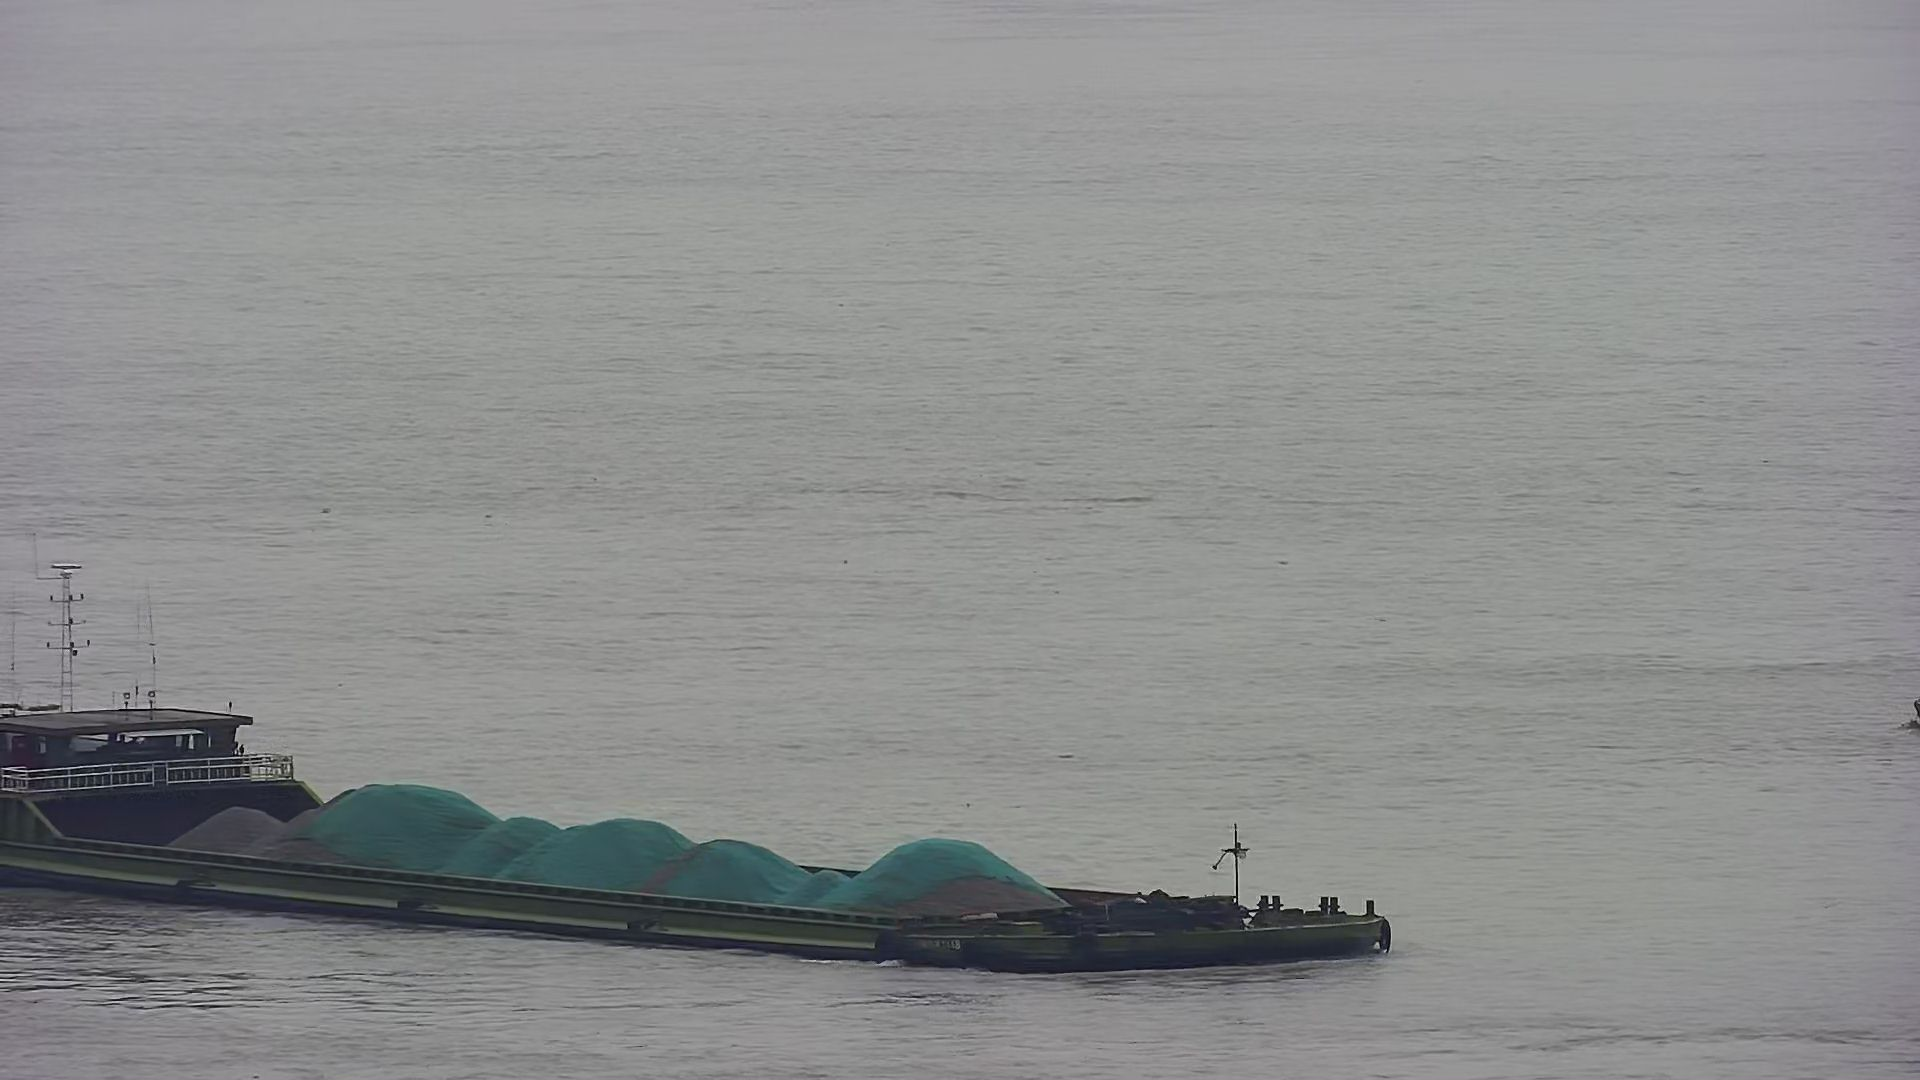ship: (1, 691, 1393, 971)
